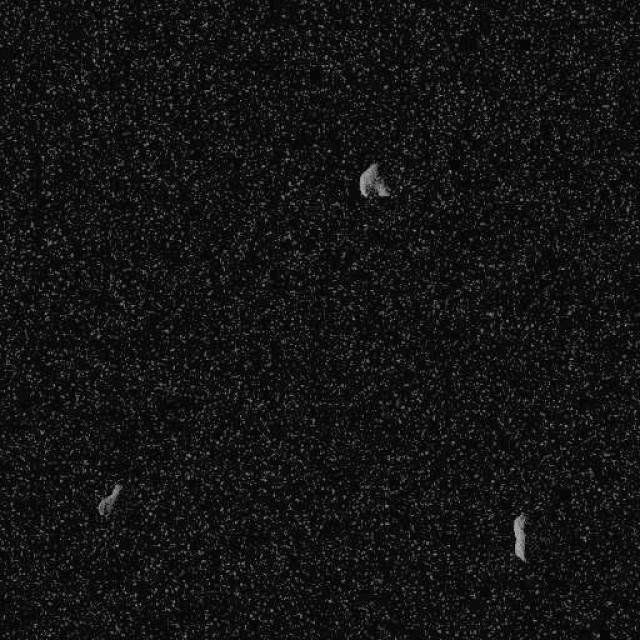D2: (358, 160, 392, 200), (96, 482, 122, 518), (512, 512, 528, 562)
